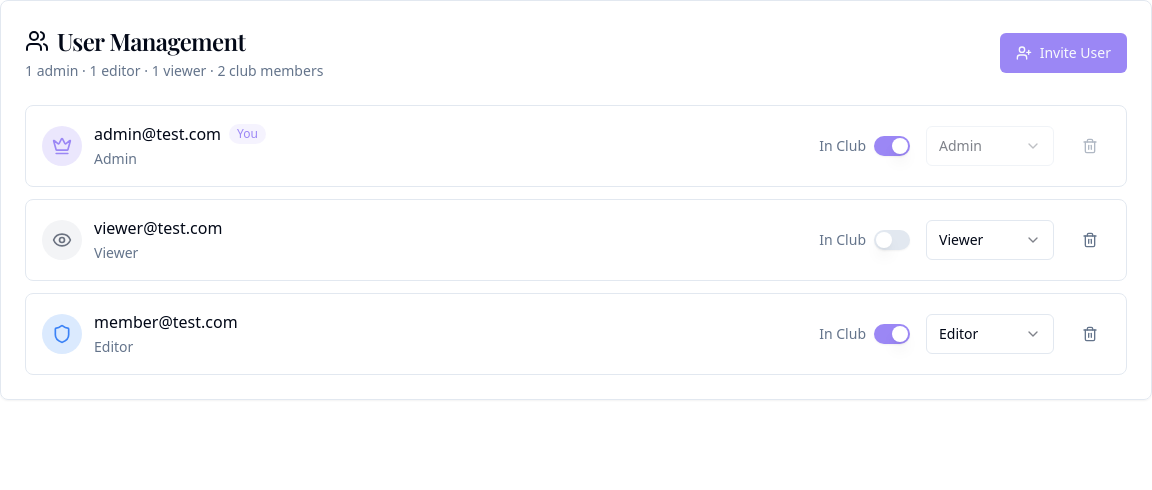
Test: UserManagement › Toggle Club Member › reverts club member toggle when toggled back
The width and height of the screenshot is (1152, 490).
Expected: the text "admin@test.com" is shown, [94, 122, 221, 146]
Click the switch in the row of "You": (892, 146) [874, 136, 910, 156]
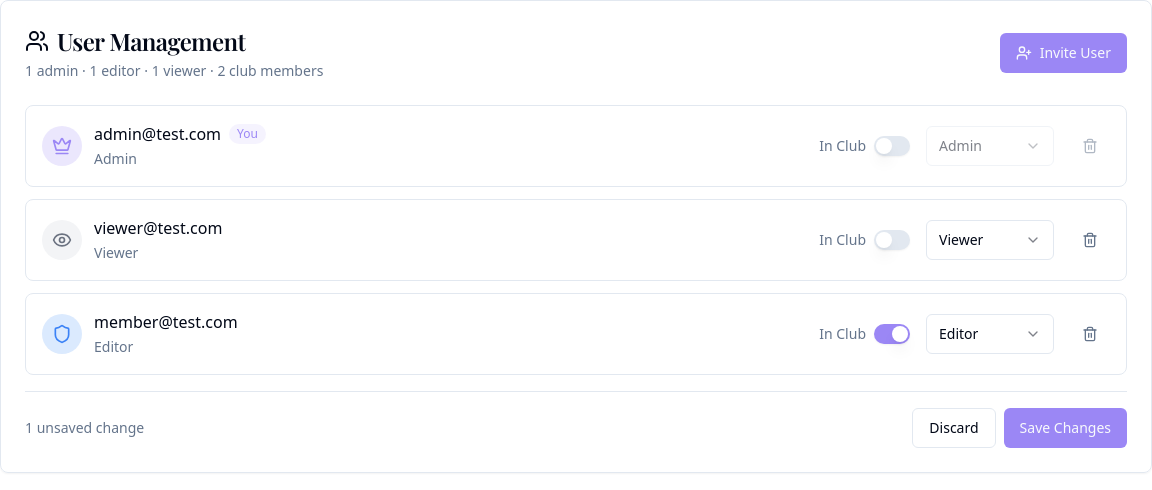
Expected: the text "1 unsaved change" is shown, [25, 418, 144, 438]
Click the switch in the row of "You": (892, 146) [874, 136, 910, 156]
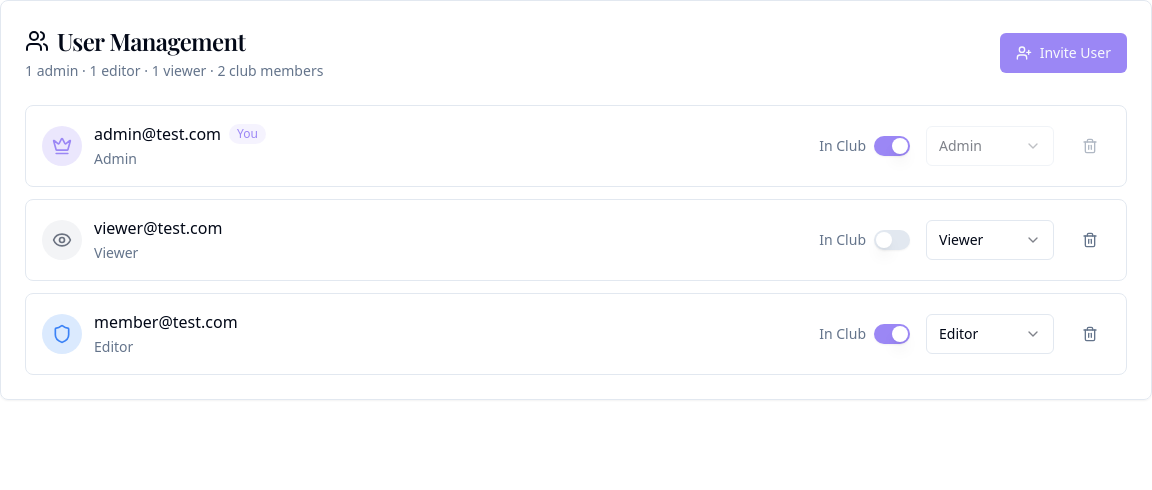
Expected: the text "unsaved change" is gone
